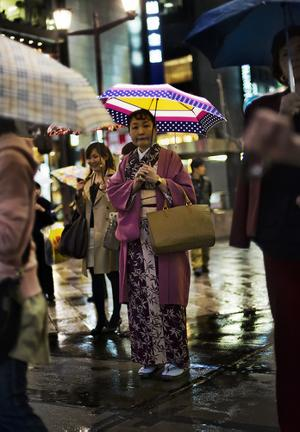person: (107, 109, 197, 380)
